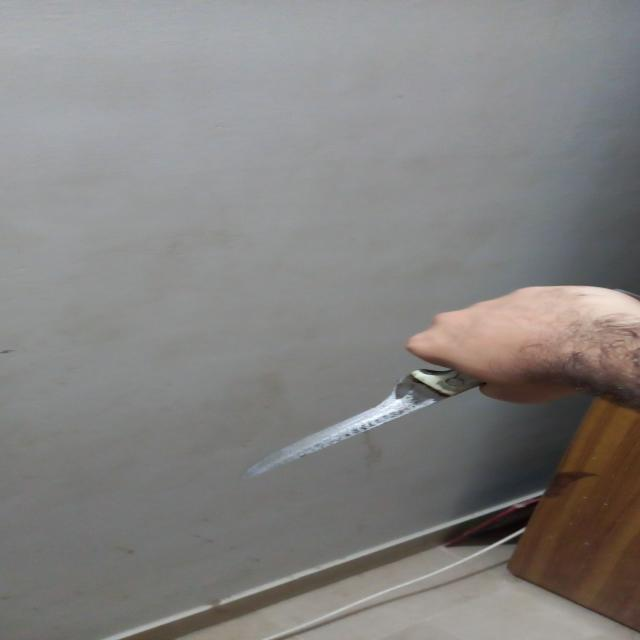Knife: (237, 353, 488, 484)
